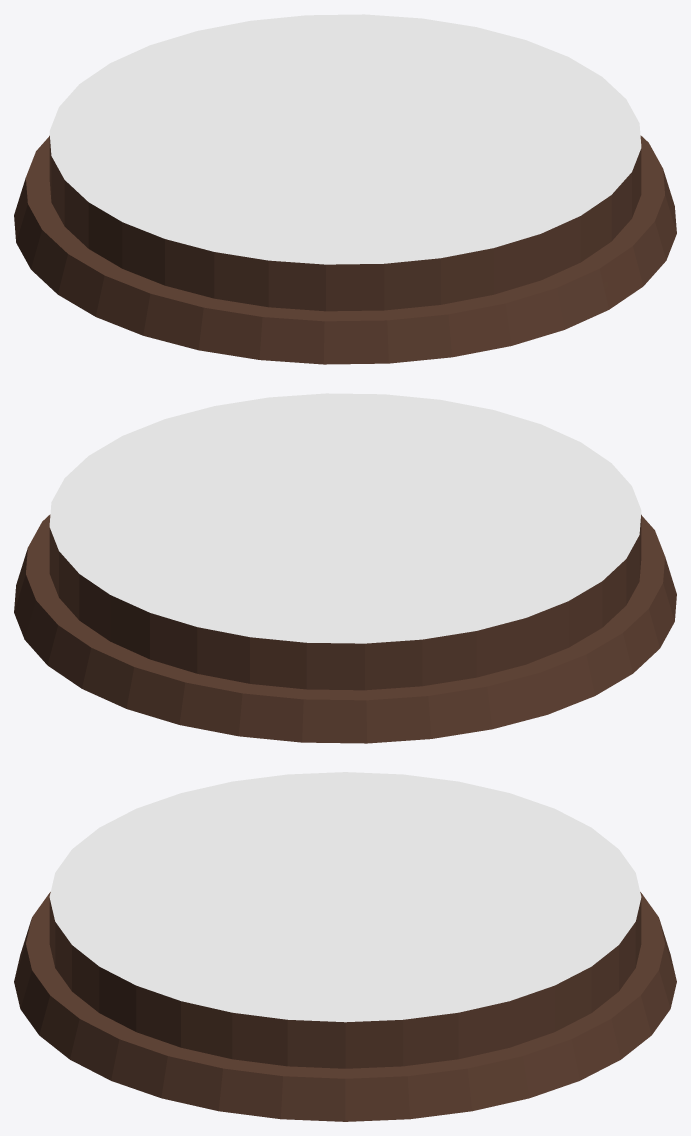
The model's file is TarMana01.glb.
3 renders of one model, top to bottom at view 1: azimuth 30°, elevation 25°; view 2: azimuth 150°, elevation 25°; view 3: azimuth 270°, elevation 25°, orthographic.
Visible parts, largest first — view 1: TarMana01; view 2: TarMana01; view 3: TarMana01.
Part boxes in pixels (left/top/right/bottom): TarMana01: left=14, top=14, right=676, bottom=364; TarMana01: left=14, top=393, right=676, bottom=743; TarMana01: left=14, top=772, right=676, bottom=1121.
Bounding box in the file's own units: 2.13 × 0.3 × 2.13.
